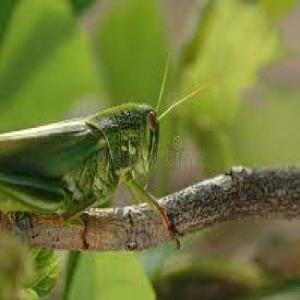locust: (1, 68, 190, 221)
